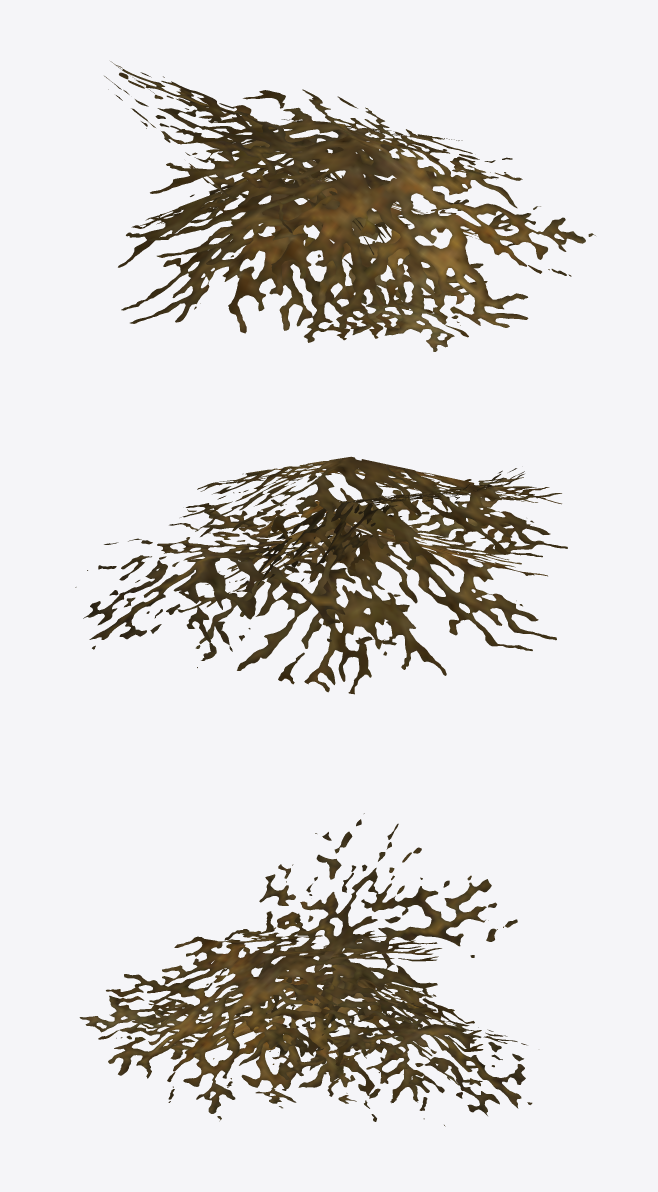
The model's file is grass_001.FBX.
3 renders of one model, top to bottom at view 1: azimuth 30°, elevation 25°; view 2: azimuth 150°, elevation 25°; view 3: azimuth 270°, elevation 25°, orthographic. The views are drawn at different scales.
Parts seen in each view (by area): view 1: grass_001; view 2: grass_001; view 3: grass_001.
Part boxes in pixels (box(x1,y1,x2,y2)): grass_001: box(104, 61, 595, 351); grass_001: box(75, 456, 567, 694); grass_001: box(79, 813, 532, 1126).
Size of the model in its own units: 138 by 53.74 by 149.
